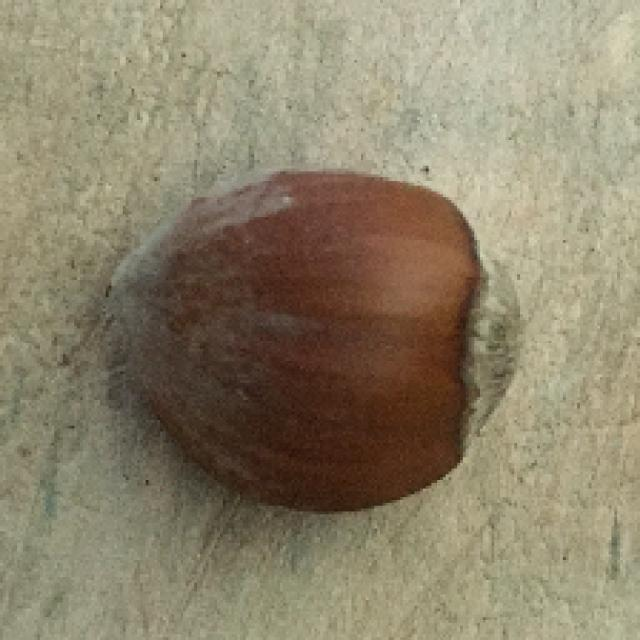qualityHazelnut: (101, 157, 530, 515)
